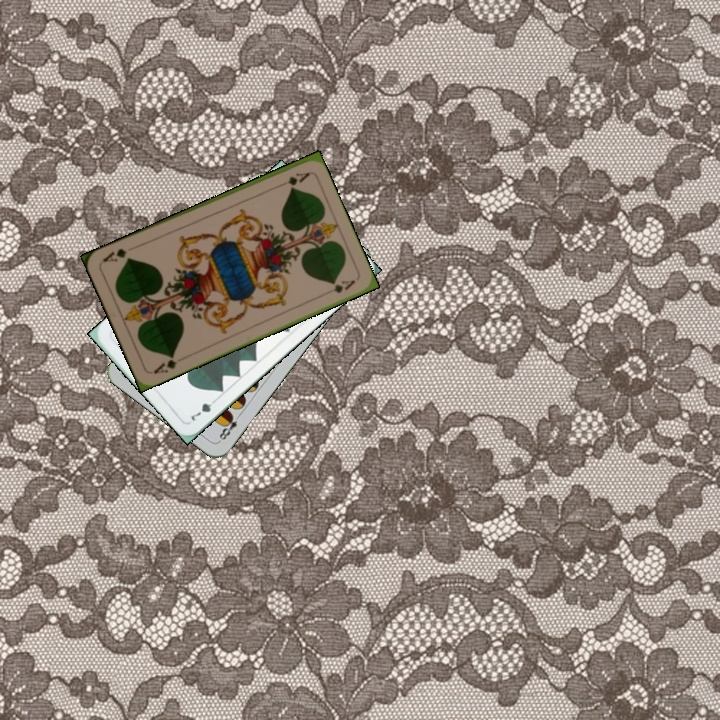E8: (215, 409, 244, 444)
G7: (187, 393, 220, 424)
GA: (273, 168, 312, 190), (149, 351, 180, 377)
